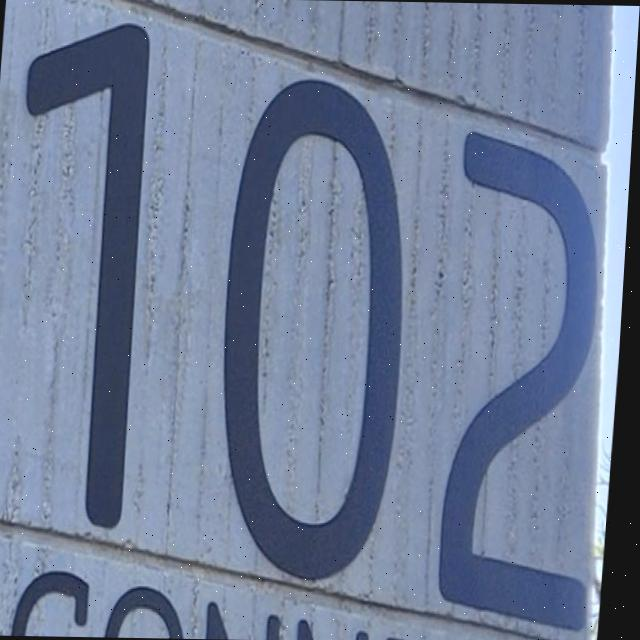character: (196, 68, 426, 589), (419, 117, 629, 640), (0, 15, 167, 541)
